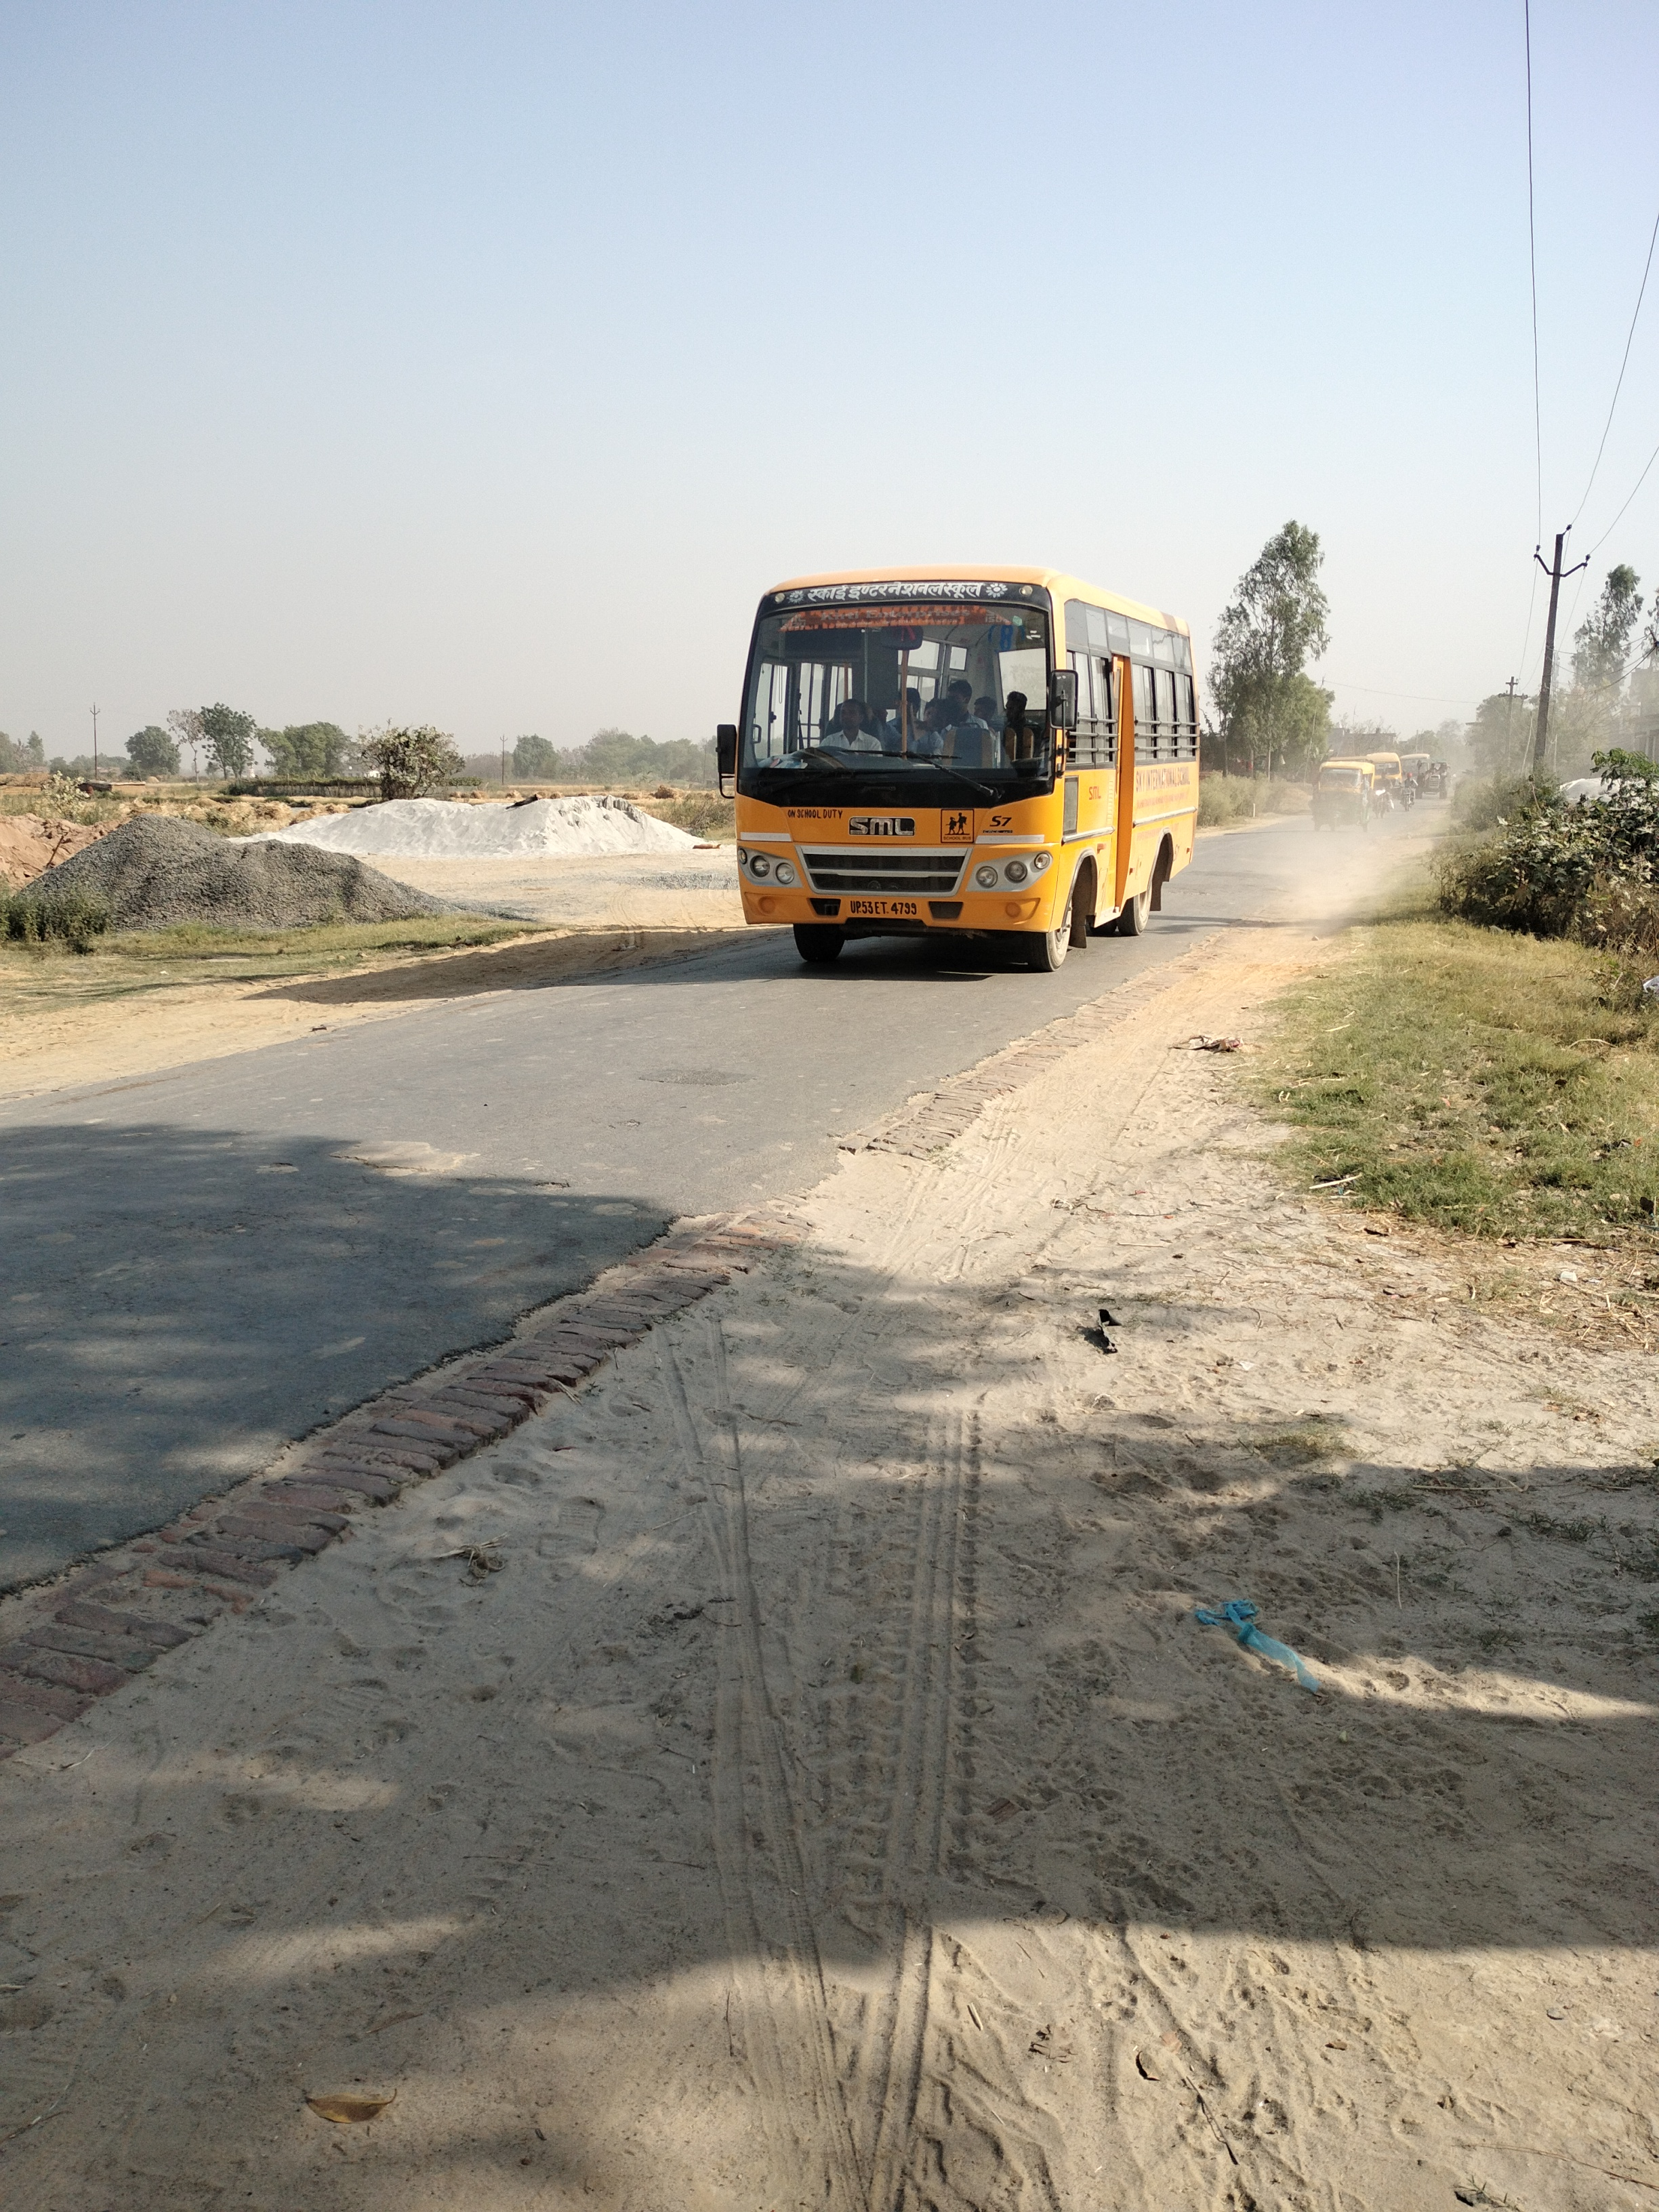tractor: (1415, 758, 1452, 799)
